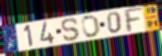0: (106, 11, 122, 35)
1: (23, 24, 34, 48)
4: (40, 21, 56, 46)
F: (122, 6, 145, 34)
O: (81, 14, 102, 39)
S: (61, 17, 82, 42)
